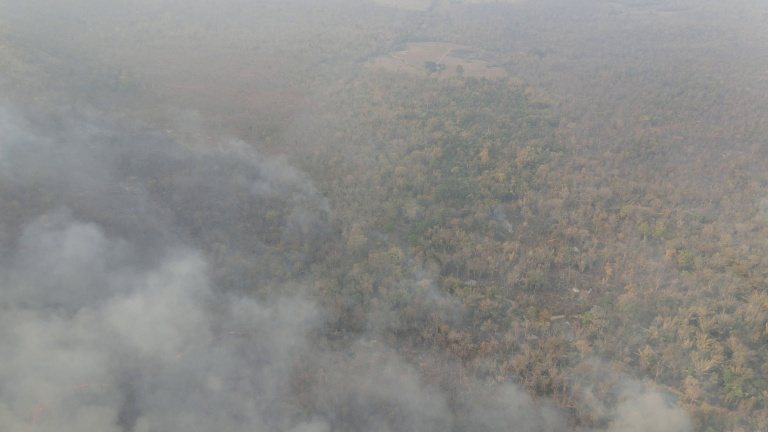fire: (29, 378, 91, 431), (164, 327, 240, 364)
smoke: (1, 246, 291, 428), (351, 349, 677, 430), (222, 132, 337, 213)
